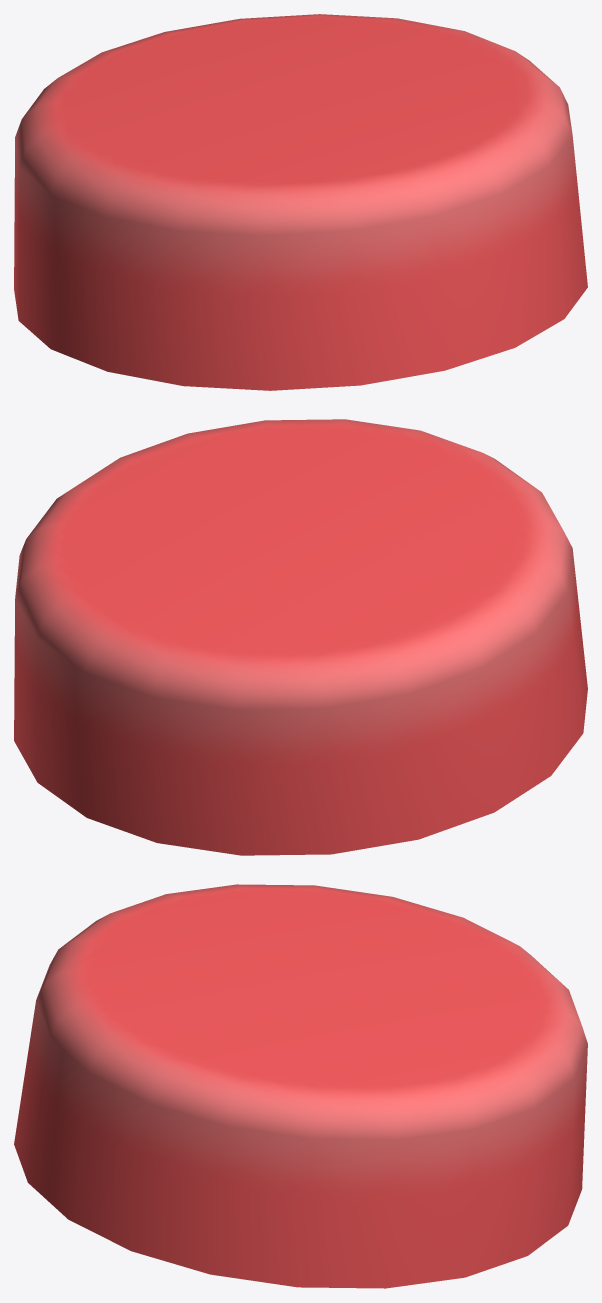
File: Tetris_ButtonA.fbx
3 views of the same model, one above another, from view 1: azimuth 30°, elevation 25°; view 2: azimuth 150°, elevation 25°; view 3: azimuth 270°, elevation 25° (orthographic).
Visible parts, largest first — view 1: Tetris_ButtonA; view 2: Tetris_ButtonA; view 3: Tetris_ButtonA.
Boxes of the visible parts, x1,y1,x2,y2 form: Tetris_ButtonA: [14, 14, 587, 390]; Tetris_ButtonA: [14, 419, 587, 855]; Tetris_ButtonA: [14, 884, 587, 1288].
Size of the model in its own units: 4.45 by 1.89 by 4.48.
